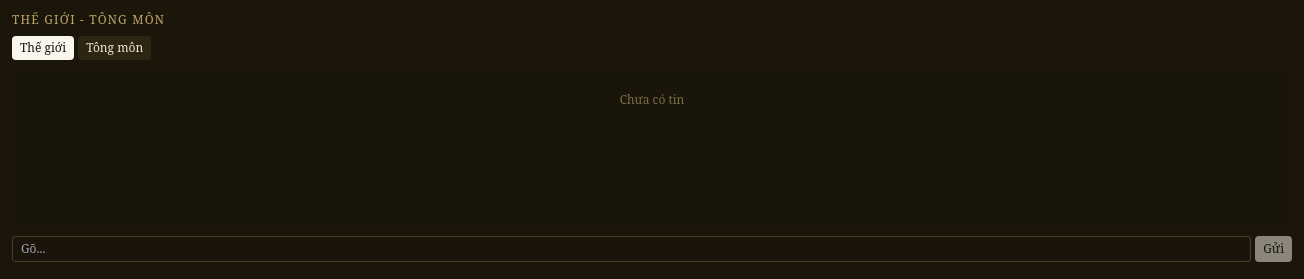
Test: ChatPanel — tab switch › switch sang SECT (có tông môn) → load SECT history
What coordinates should you click on to do the following:
click the button "Tông môn"
I would click on:
 (115, 48)
Its box is top-left (78, 36), bottom-right (151, 60).
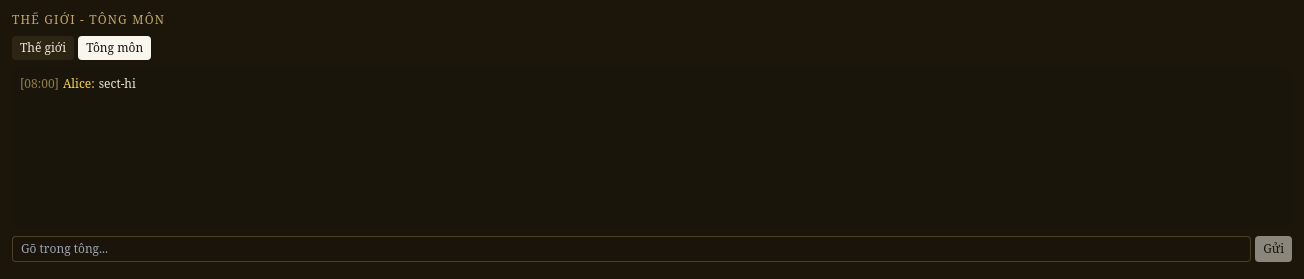
Expected: the text "sect-hi" is shown, top-left (99, 75), bottom-right (136, 92)
